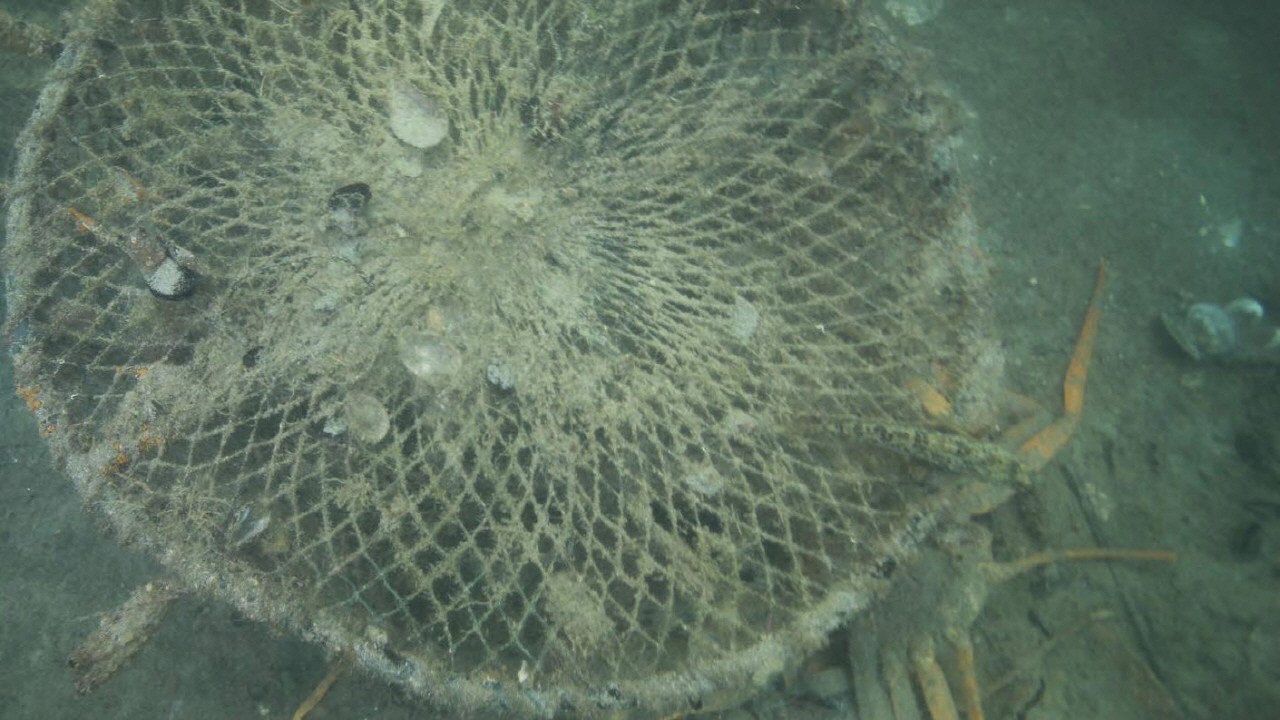circular fish trap: (5, 3, 990, 709)
